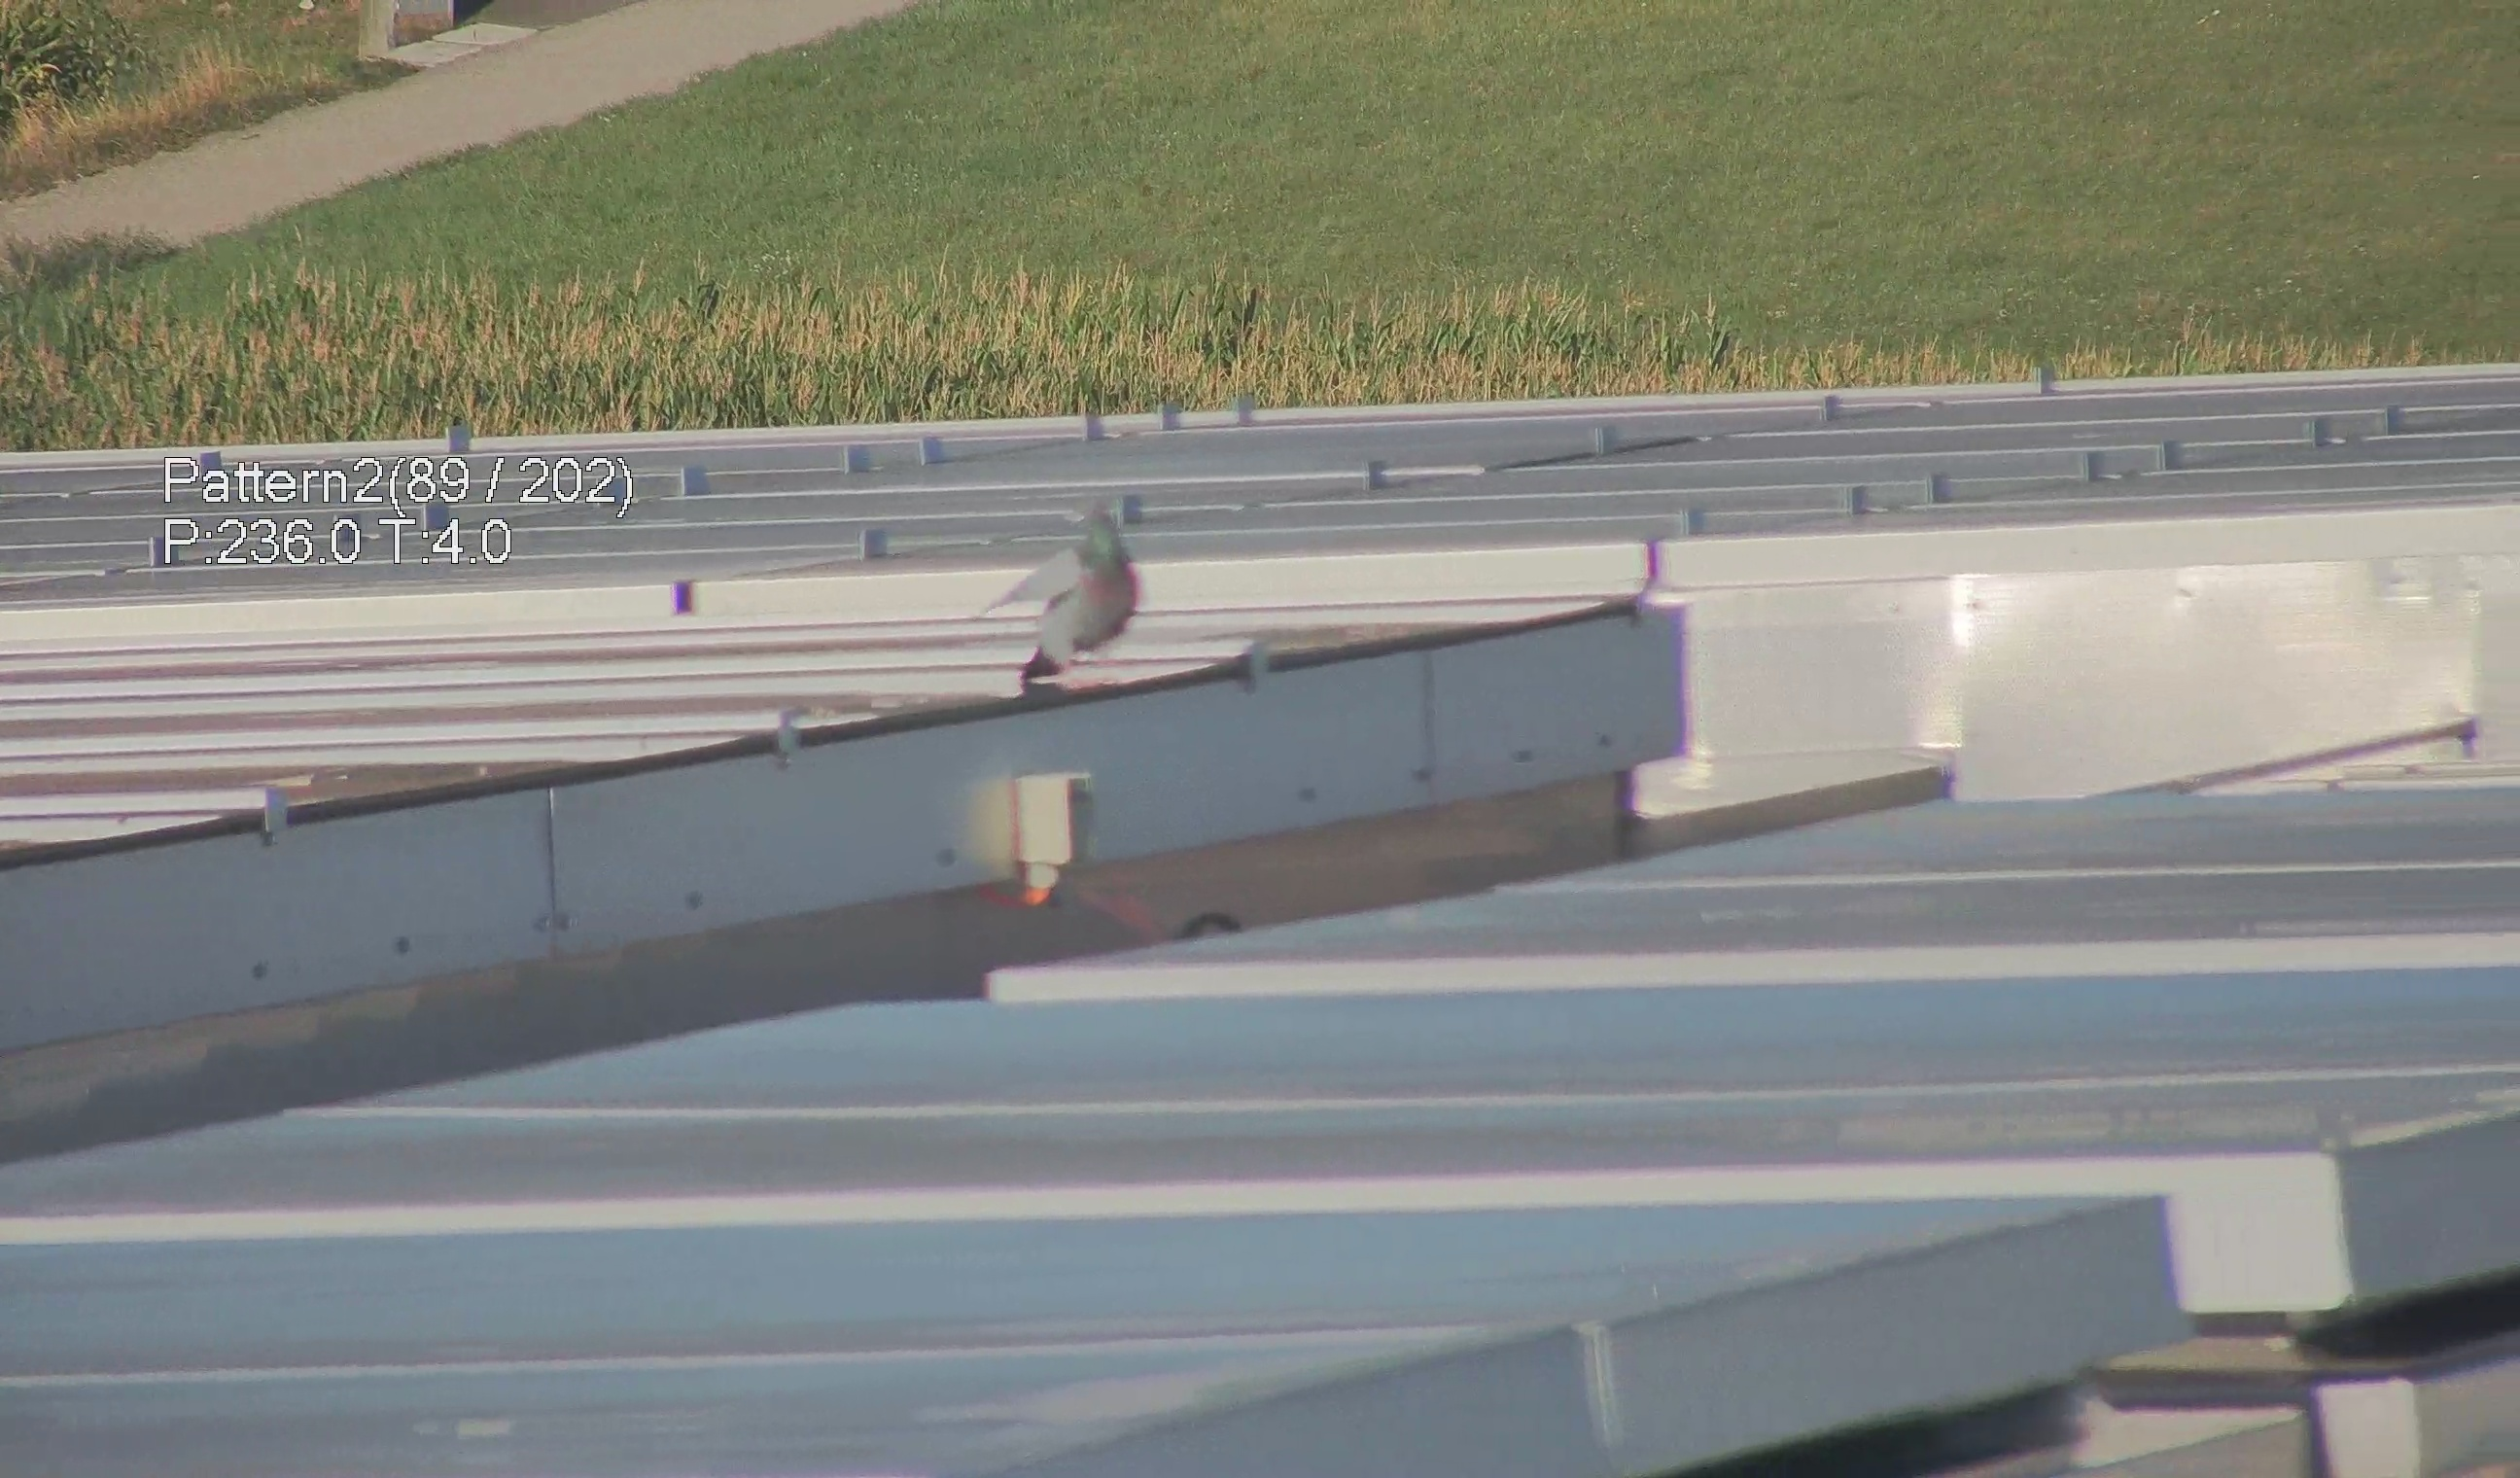Pigeon: (1006, 503, 1150, 699)
